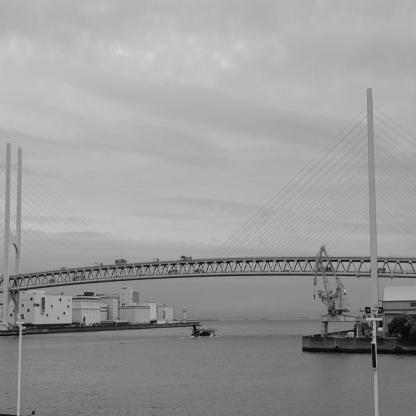US2: (190, 324, 219, 339)
